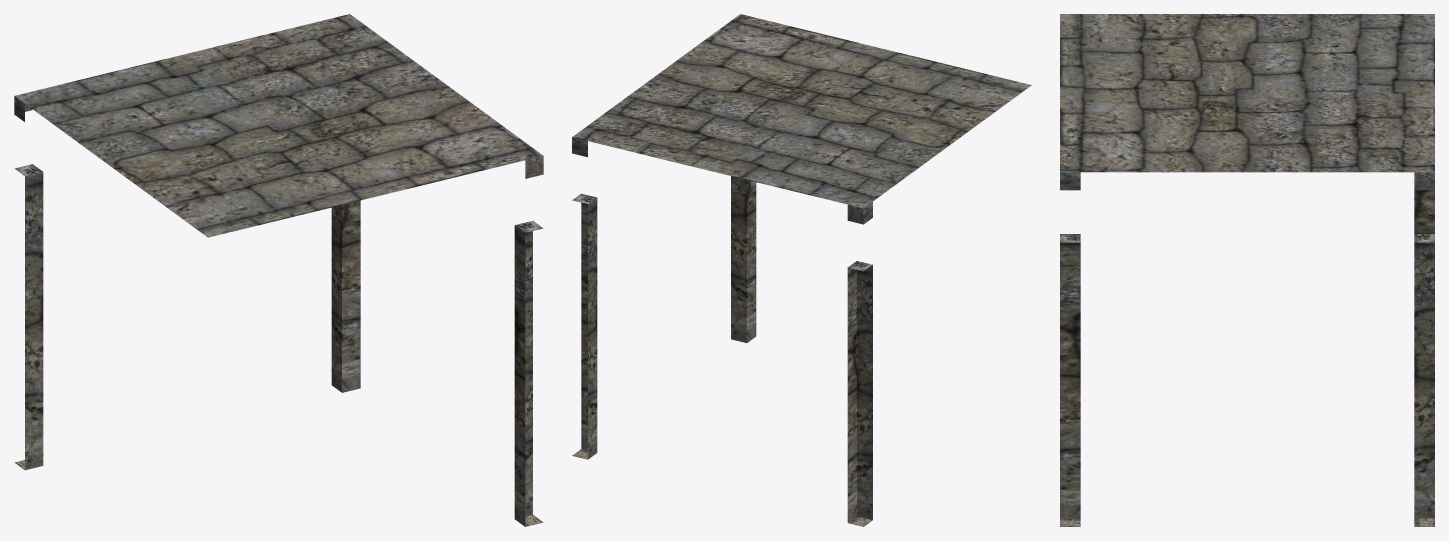
The model's file is Fort_11101010.gltf.
3 views of the same model, side by side, from view 1: azimuth 30°, elevation 25°; view 2: azimuth 150°, elevation 25°; view 3: azimuth 270°, elevation 25° (orthographic). The views are drawn at different scales.
Visible parts, largest first — view 1: Claimed_11101010; view 2: Claimed_11101010; view 3: Claimed_11101010.
Boxes of the visible parts, x1,y1,x2,y2 form: Claimed_11101010: [14, 14, 543, 526]; Claimed_11101010: [572, 14, 1031, 526]; Claimed_11101010: [1060, 14, 1434, 526].
Size of the model in its own units: 2.5 by 2.61 by 2.5.
Materials: 1 (1 with a texture image).
